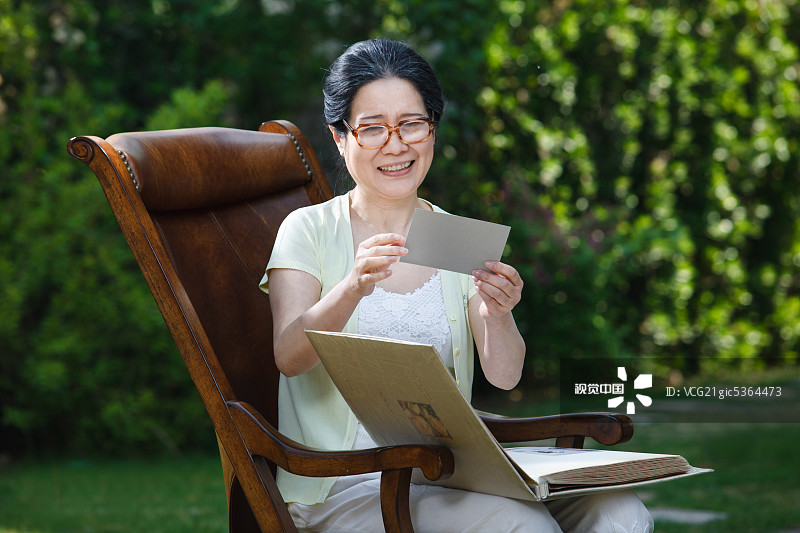no-phone: (347, 224, 416, 302), (461, 254, 530, 324)
